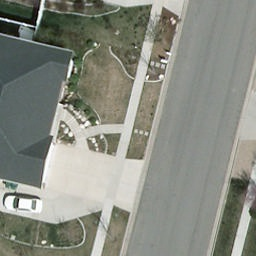car: (2, 194, 44, 215)
